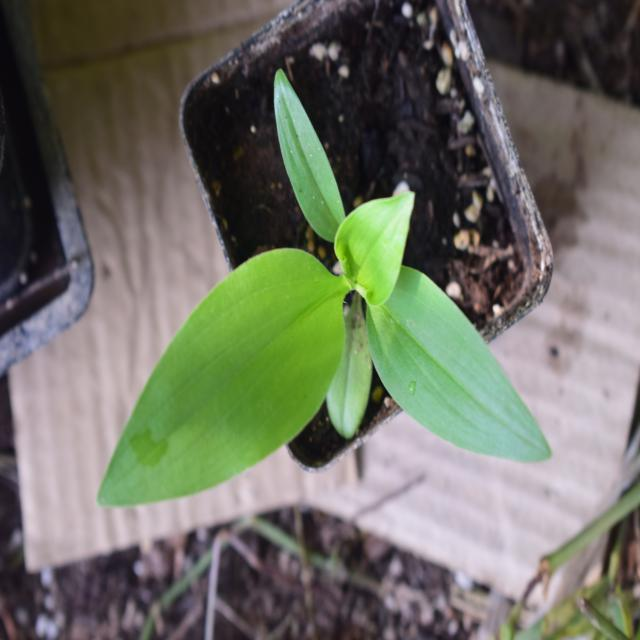Common Dayflower: (91, 137, 562, 512)
